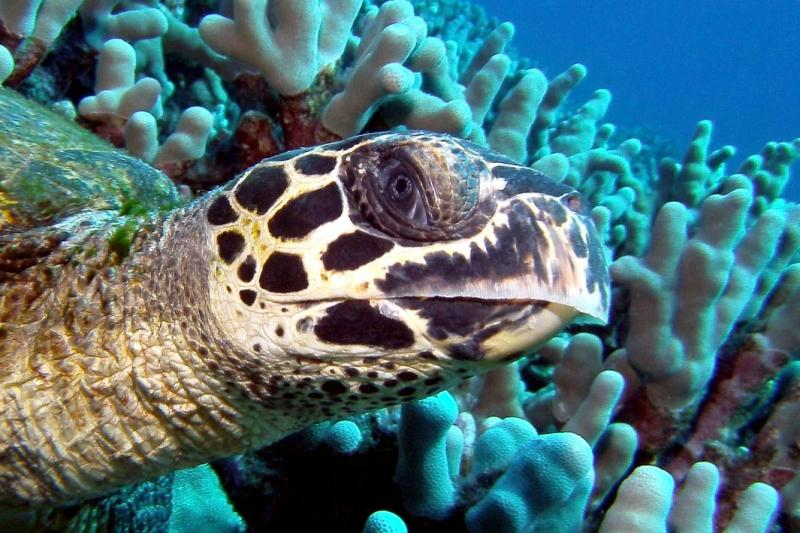turtle: (199, 120, 616, 426)
